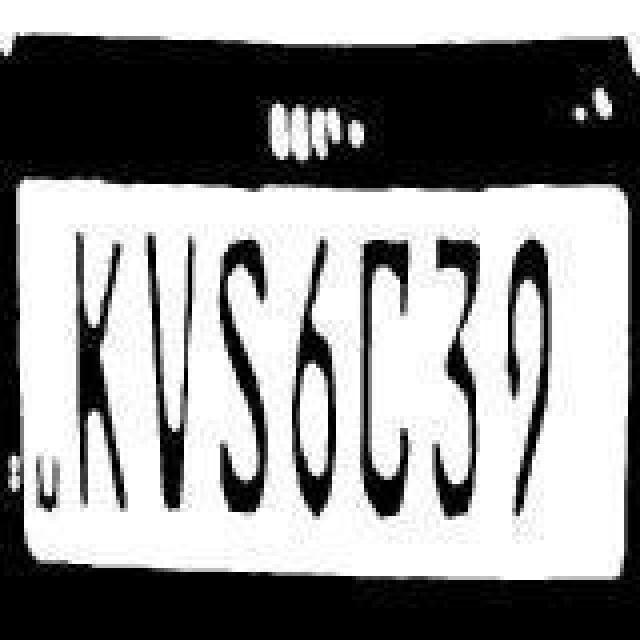3: (426, 218, 494, 534)
6: (284, 214, 356, 522)
9: (496, 212, 568, 524)
C: (360, 220, 424, 532)
K: (58, 198, 134, 506)
S: (208, 208, 280, 512)
V: (142, 202, 202, 518)
